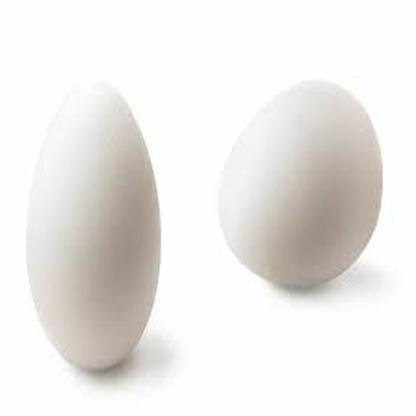egg: (21, 78, 164, 376), (214, 74, 392, 294)
